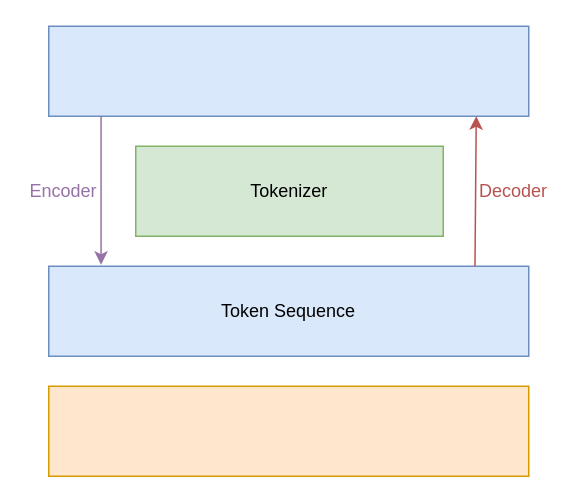
Some shapes in this 576 by 503 pixel diagram are drawn without their labels. The centre of each missing label's shape, as x and y in pixels:
"Large Language Model (LLM)" belongs at (288,430).
"Raw Text (Unicode Code Point Sequence)" belongs at (288,70).
